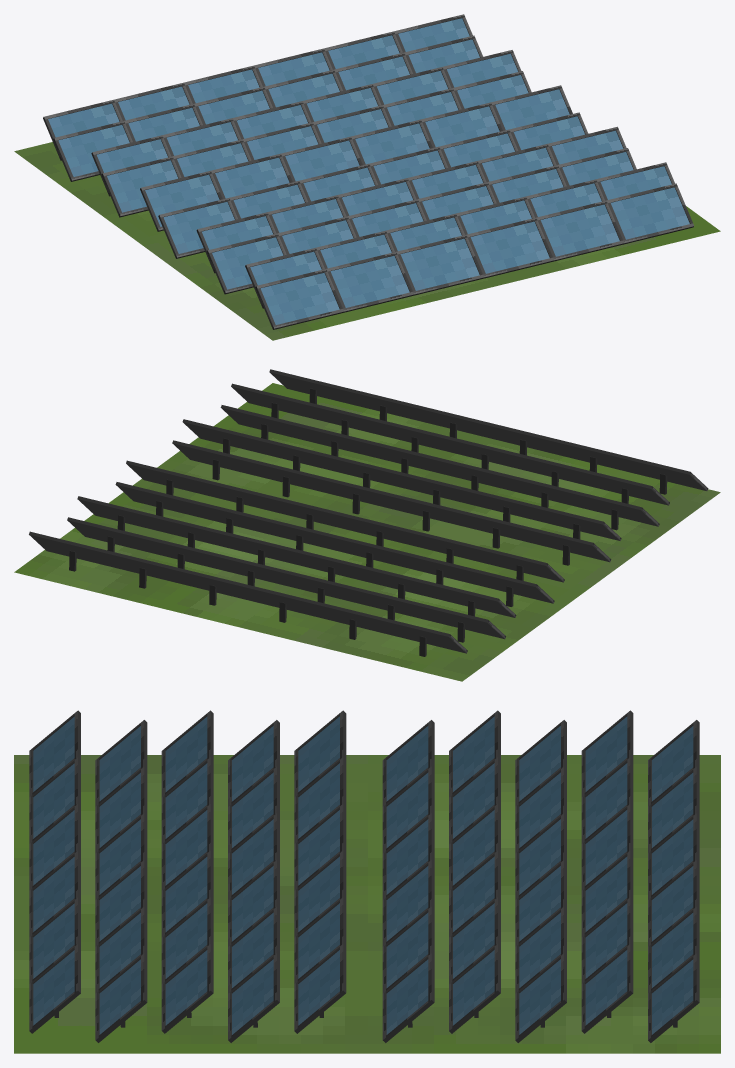
Rendered from Solar Array.obj.
3 renders of one model, top to bottom at view 1: azimuth 30°, elevation 25°; view 2: azimuth 150°, elevation 25°; view 3: azimuth 270°, elevation 25°, orthographic. The views are drawn at different scales.
Parts seen in each view (by area): view 1: plane, mesh; view 2: mesh, plane; view 3: plane, mesh.
Boxes of the visible parts, x1,y1,x2,y2 form: plane: (14, 18, 720, 340); mesh: (43, 14, 693, 329); mesh: (29, 369, 708, 656); plane: (14, 383, 720, 681); plane: (14, 716, 720, 1053); mesh: (29, 710, 699, 1042).
Size of the model in its own units: 1 by 0.0783 by 1.
Materials: 1 (1 with a texture image).
